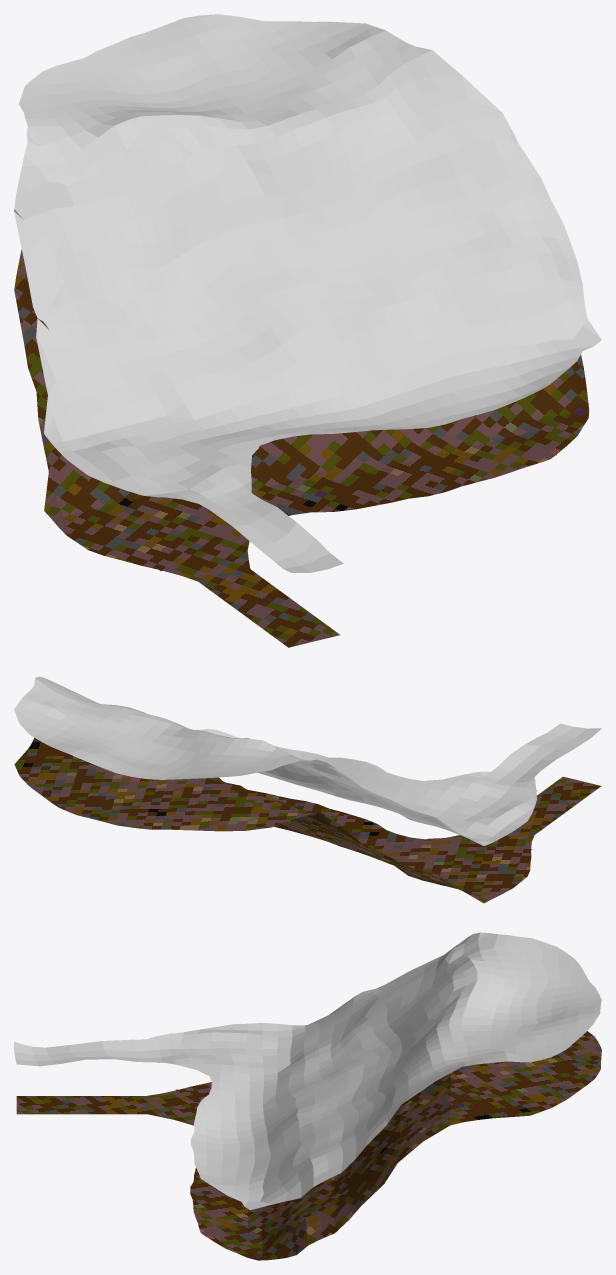
The model's file is woodland.fbx.
3 renders of one model, top to bottom at view 1: azimuth 30°, elevation 25°; view 2: azimuth 150°, elevation 25°; view 3: azimuth 270°, elevation 25°, orthographic. The views are drawn at different scales.
Parts seen in each view (by area): view 1: Plane.001, Plane; view 2: Plane.001, Plane; view 3: Plane.001, Plane.
Part boxes in pixels (x1,y1,x2,y2): Plane.001: [14, 14, 601, 572]; Plane: [14, 249, 589, 647]; Plane.001: [14, 676, 601, 845]; Plane: [14, 738, 601, 903]; Plane.001: [14, 932, 601, 1210]; Plane: [16, 1031, 601, 1260].
Bounding box in the file's own units: 1987 × 900 × 2542.
